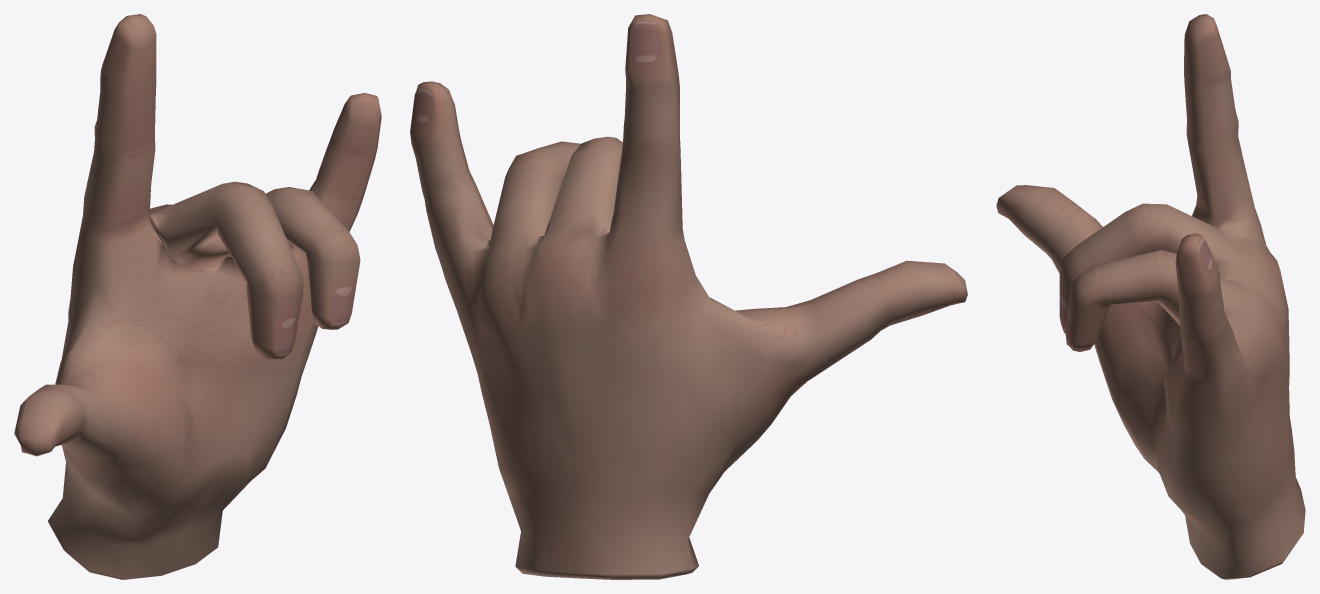
Rendered from hand.glb.
The picture shows the model from 3 angles, left to right: view 1: azimuth 30°, elevation 25°; view 2: azimuth 150°, elevation 25°; view 3: azimuth 270°, elevation 25°; orthographic projection. The views are drawn at different scales.
Parts seen in each view (by area): view 1: hand; view 2: hand; view 3: hand.
Boxes of the visible parts, x1,y1,x2,y2 form: hand: (14, 14, 381, 579); hand: (410, 14, 967, 579); hand: (996, 14, 1305, 579).
Size of the model in its own units: 0.8059 by 0.9558 by 0.5118.
1 material, 1 textured.
